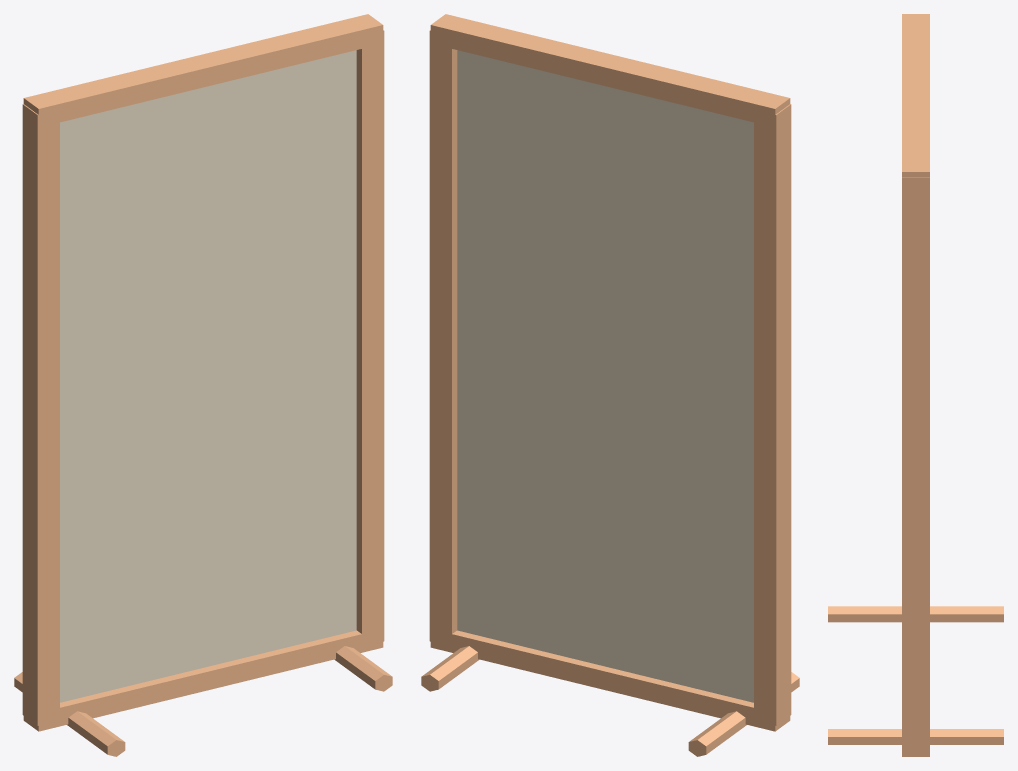
3 views of the same model, side by side, from view 1: azimuth 30°, elevation 25°; view 2: azimuth 150°, elevation 25°; view 3: azimuth 270°, elevation 25° (orthographic). The views are drawn at different scales.
Visible parts, largest first — view 1: Mirror face, Frame, Frame.001, Frame.003, Frame.002, Foot, Foot.001; view 2: Mirror face, Frame, Frame.001, Frame.003, Frame.002, Foot, Foot.001; view 3: Frame.001, Frame.003, Foot, Foot.001.
Part boxes in pixels (x1,y1,x2,y2): Mirror face: (60, 50, 356, 702); Frame: (22, 104, 59, 725); Frame.001: (356, 30, 384, 646); Frame.003: (23, 14, 383, 127); Frame.002: (23, 630, 383, 731); Foot: (14, 672, 125, 756); Foot.001: (334, 646, 392, 691); Mirror face: (457, 50, 753, 702); Frame: (754, 104, 791, 725); Frame.001: (429, 30, 457, 641); Frame.003: (430, 14, 790, 122); Frame.002: (430, 629, 790, 731); Foot: (688, 672, 799, 756); Foot.001: (421, 646, 479, 691); Frame.001: (902, 177, 929, 751); Frame.003: (902, 14, 929, 177); Foot: (828, 606, 1003, 622); Foot.001: (828, 729, 1003, 744).
Bounding box in the file's own units: 107 × 185 × 50.
